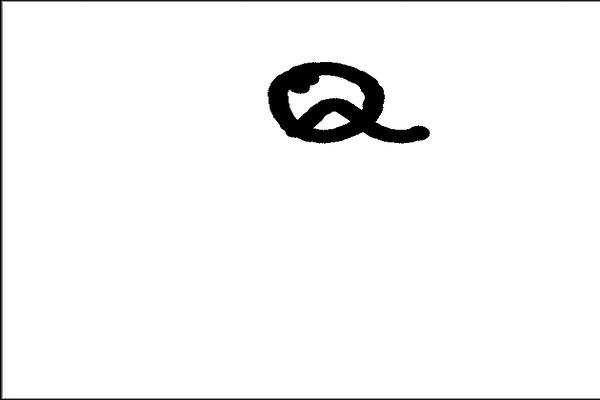Q: (263, 51, 433, 153)
